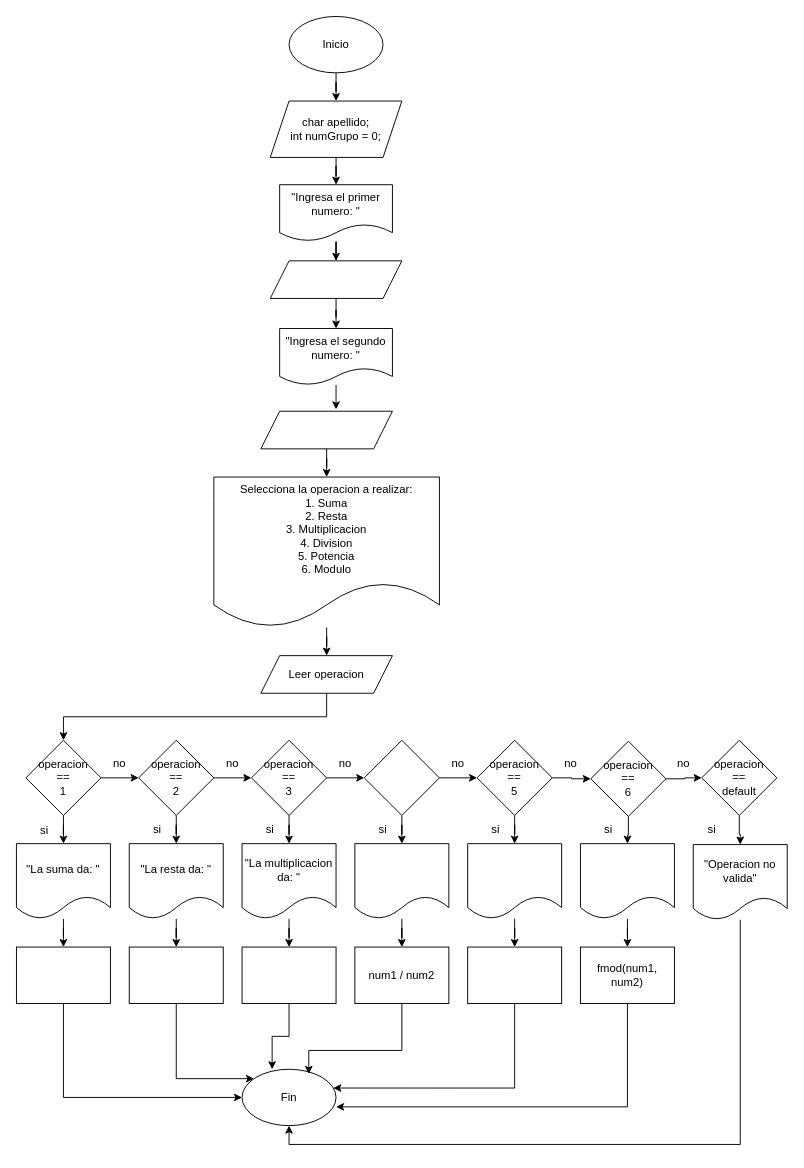
Some shapes in this 804 by 1168 pixel diagram are drawn without their labels. The box of each missing label's shape, as (x1, y1, x2, y2) in pixels:
"El modulo da: ": (580, 843, 674, 919)
"La division da: ": (354, 843, 449, 919)
"La potencia da: ": (467, 843, 562, 919)
Leer num1: (269, 260, 402, 298)
Leer num2: (260, 410, 392, 449)
num1 * num2: (241, 946, 336, 1003)
num1 + num2: (16, 946, 110, 1003)
num1 - num2: (128, 946, 223, 1003)
operacion == 4: (363, 739, 439, 815)
pow(num1, num2): (467, 946, 562, 1003)
